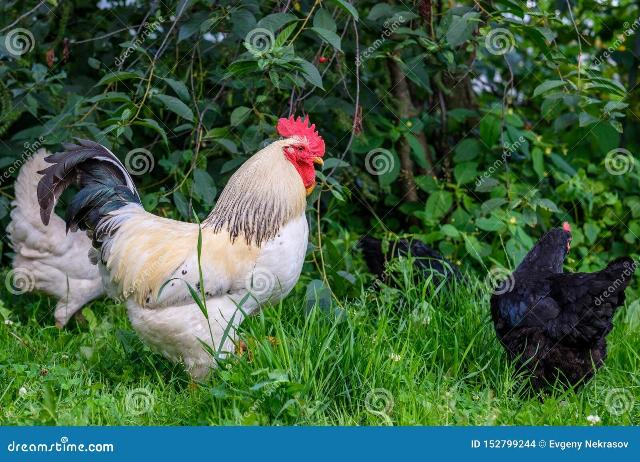Chicken: (36, 113, 326, 387), (493, 218, 634, 390), (9, 148, 113, 327)
